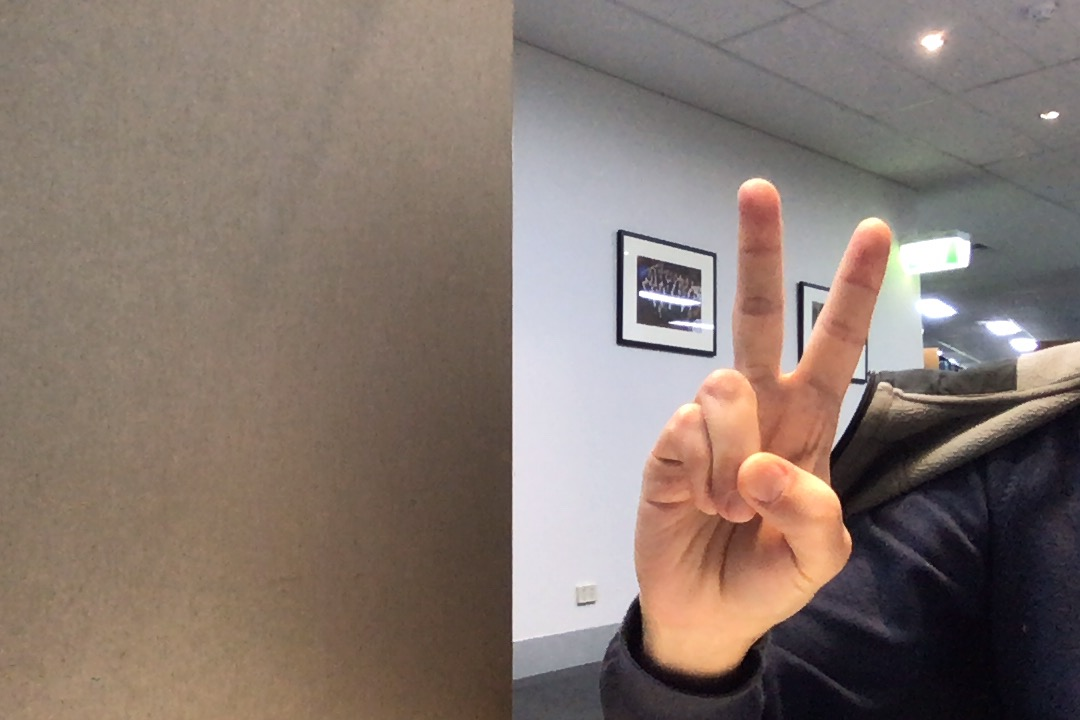peacesign: (618, 161, 901, 650)
